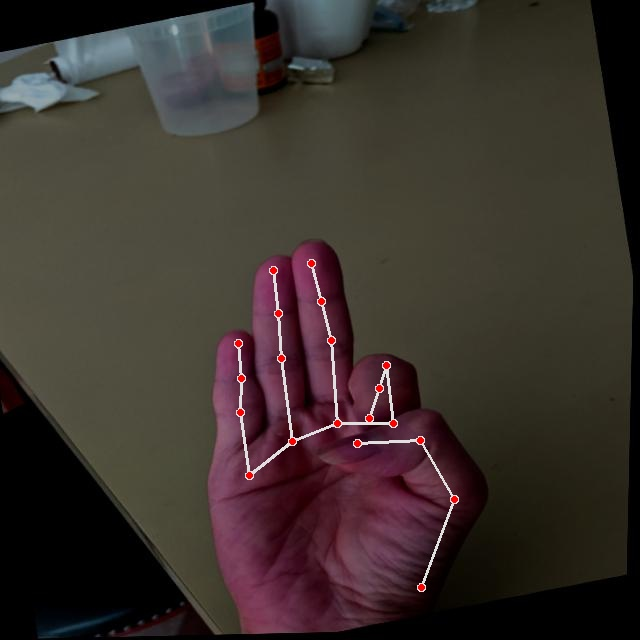F: (156, 204, 524, 636)
